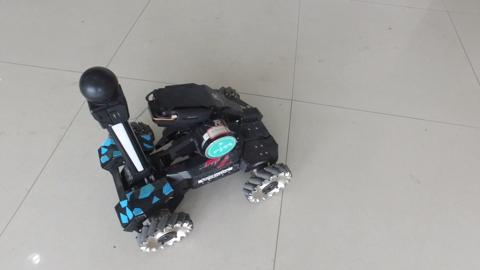chariot: (75, 71, 286, 249)
